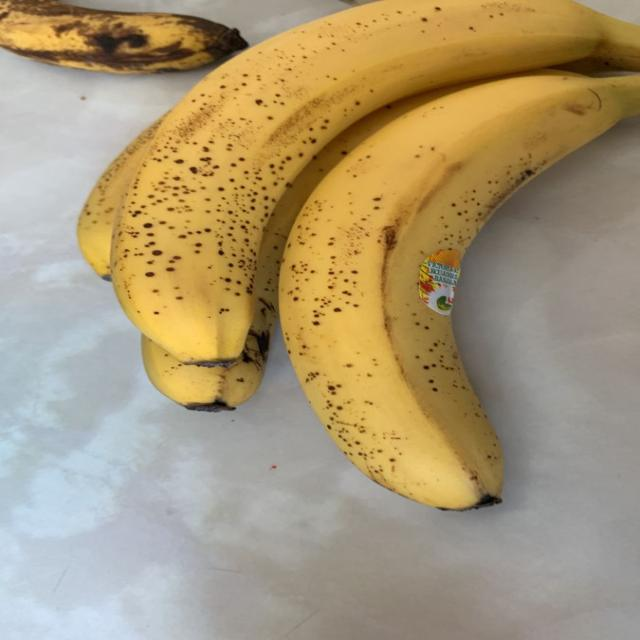unpeal banana: (112, 0, 639, 363), (280, 71, 639, 509), (142, 90, 453, 411), (0, 0, 246, 73), (77, 119, 161, 279), (142, 315, 274, 411)
